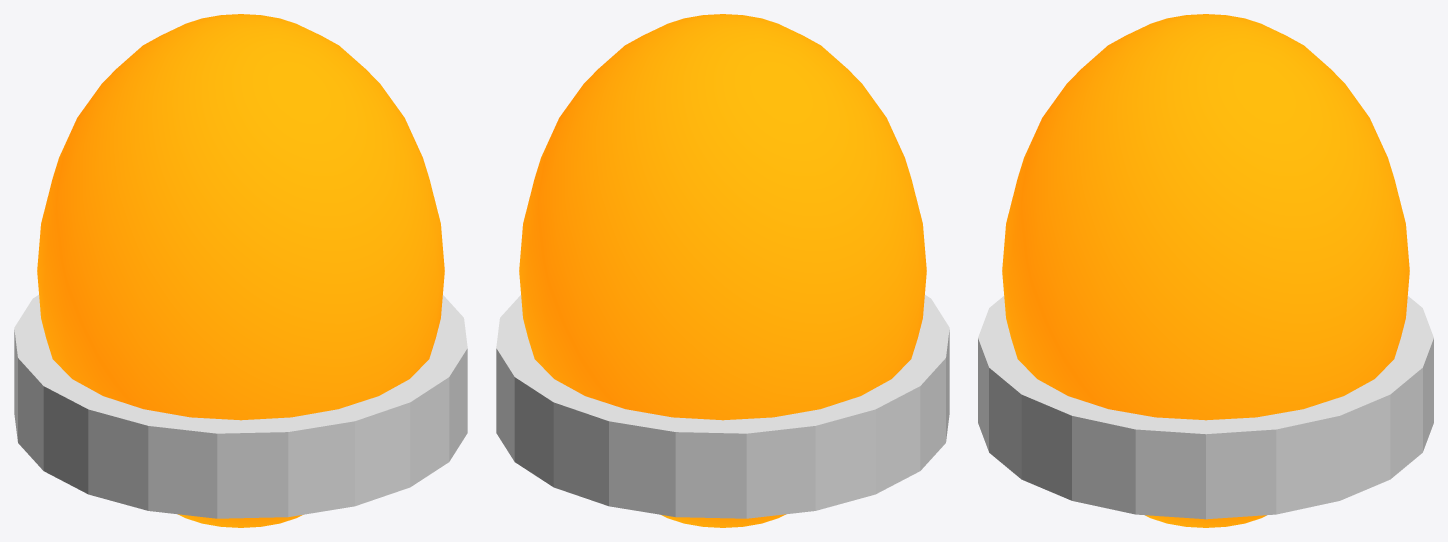
File: PoliceCar_PoliceLightBar.fbx
3 renders of one model, left to right at view 1: azimuth 30°, elevation 25°; view 2: azimuth 150°, elevation 25°; view 3: azimuth 270°, elevation 25°, orthographic.
Visible parts, largest first — view 1: PoliceDomeLight, DomeLightBase; view 2: PoliceDomeLight, DomeLightBase; view 3: PoliceDomeLight, DomeLightBase.
Part boxes in pixels (left/top/right/bottom): PoliceDomeLight: left=37, top=14, right=444, bottom=527; DomeLightBase: left=14, top=295, right=467, bottom=518; PoliceDomeLight: left=519, top=14, right=926, bottom=527; DomeLightBase: left=496, top=295, right=949, bottom=518; PoliceDomeLight: left=1002, top=14, right=1409, bottom=527; DomeLightBase: left=978, top=296, right=1433, bottom=519.
Bounding box in the file's own units: 0.17 × 0.1995 × 0.17.
